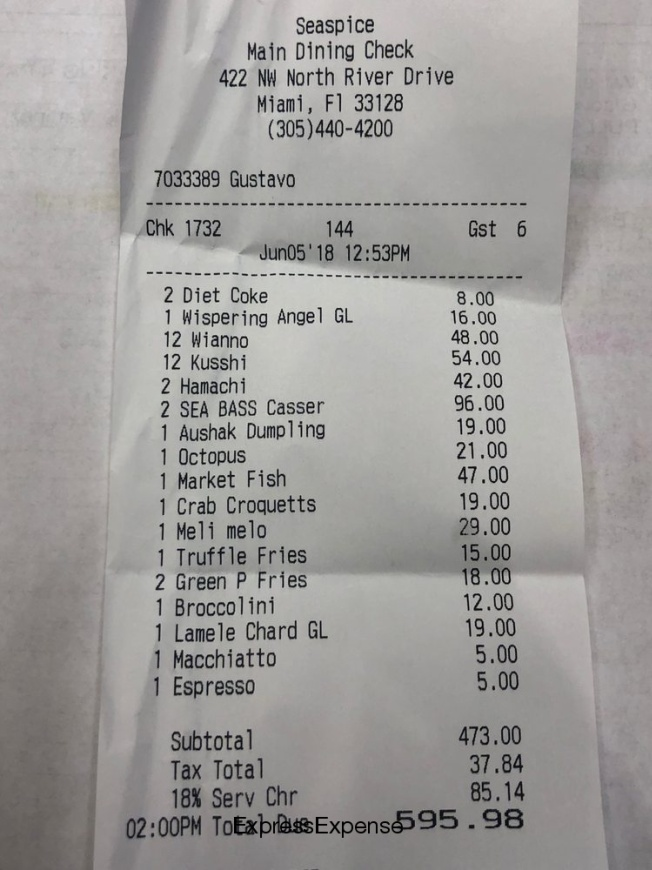Purchase summary: (126, 154, 543, 853)
Receipt: (93, 1, 607, 868)
Shop details: (213, 7, 465, 149)
